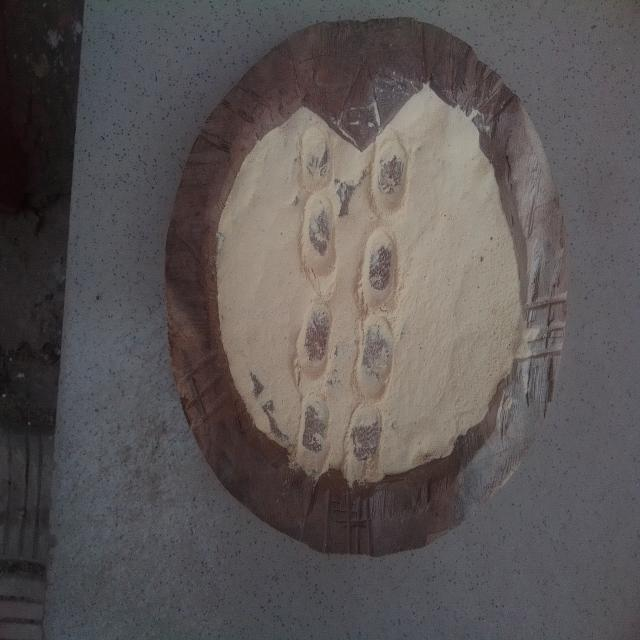single: (297, 188, 345, 300), (358, 225, 404, 318), (356, 314, 398, 404), (294, 301, 336, 388), (371, 138, 412, 220), (346, 400, 386, 478), (300, 122, 336, 192), (299, 388, 331, 466)
